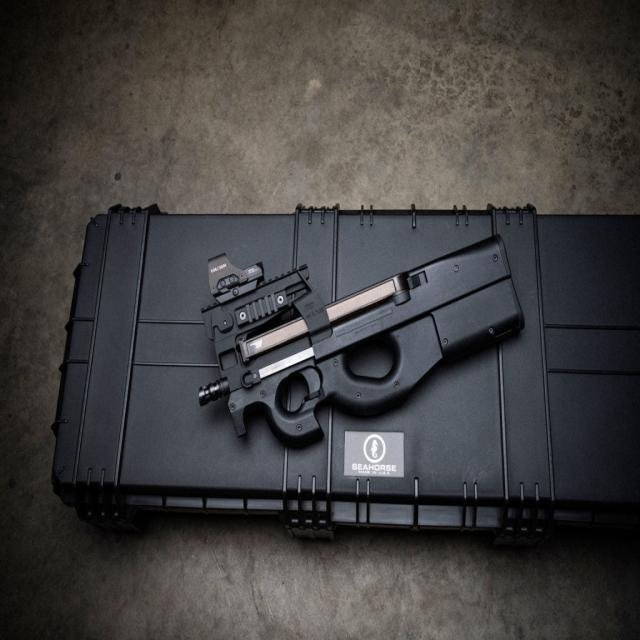SMG: (199, 235, 524, 448)
